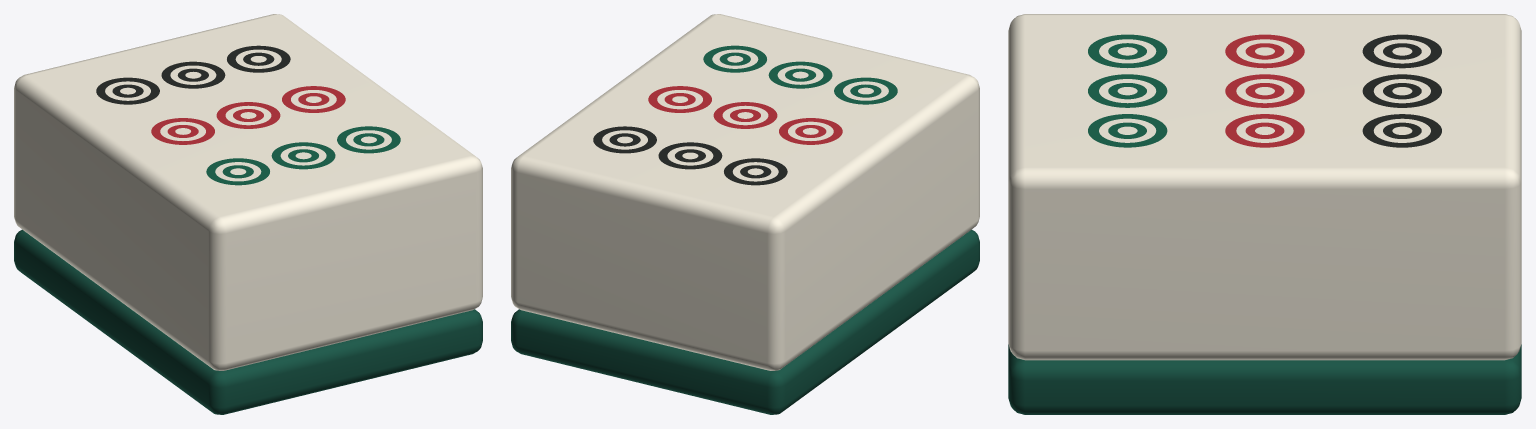
The model's file is tong-09.glb.
The picture shows the model from 3 angles, left to right: view 1: azimuth 30°, elevation 25°; view 2: azimuth 150°, elevation 25°; view 3: azimuth 270°, elevation 25°; orthographic projection. The views are drawn at different scales.
Visible parts, largest first — view 1: tong-09_ivory, tong-09_back, tong-09_face_inlays; view 2: tong-09_ivory, tong-09_back, tong-09_face_inlays; view 3: tong-09_ivory, tong-09_back, tong-09_face_inlays.
Boxes of the visible parts, box(x1,y1,x2,y2) form: tong-09_ivory: box(14, 14, 482, 370); tong-09_back: box(14, 229, 482, 414); tong-09_face_inlays: box(96, 45, 400, 185); tong-09_ivory: box(511, 14, 979, 370); tong-09_back: box(511, 229, 979, 414); tong-09_face_inlays: box(593, 45, 897, 185); tong-09_ivory: box(1008, 14, 1521, 360); tong-09_back: box(1008, 344, 1521, 414); tong-09_face_inlays: box(1088, 34, 1441, 147).
Bounding box in the file's own units: 0.026 × 0.018 × 0.034.
